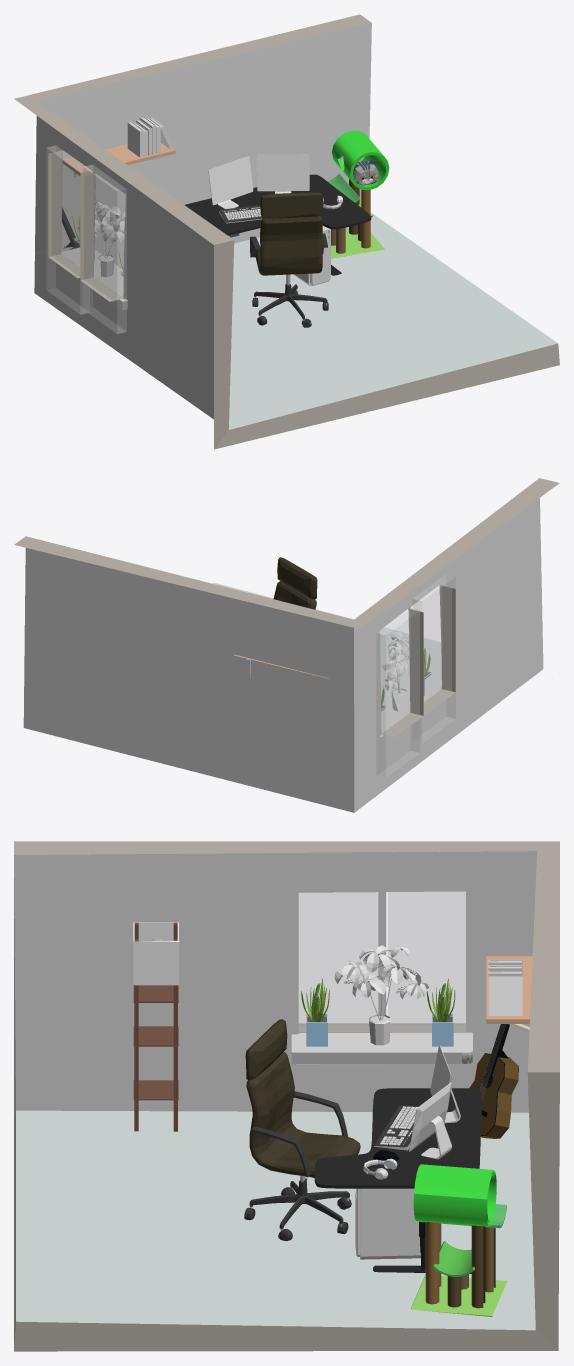
File: home.gltf
3 renders of one model, top to bottom at view 1: azimuth 30°, elevation 25°; view 2: azimuth 150°, elevation 25°; view 3: azimuth 270°, elevation 25°, orthographic. The views are drawn at different scales.
Visible parts, largest first — view 1: Plane, CHAIR, Cube.001, Cube, catTree0, desk, Books, CoffePlant_mehs, screan2, screan, SHELF, Cube.003 (+5 smaller); view 2: Plane, Cube, Cube.001, CHAIR, CoffePlant_mehs, Cube.003; view 3: Plane, catTree0, CHAIR, Cube, Cube.001, desk, LAMP, Cube.003, PC, CoffePlant_mehs, Guitar1, Books (+5 smaller).
Boxes of the visible parts, x1,y1,x2,y2 form: Plane: (14, 14, 559, 449); CHAIR: (250, 192, 328, 327); Cube.001: (83, 165, 126, 333); Cube: (46, 145, 89, 314); catTree0: (327, 130, 389, 258); desk: (185, 174, 371, 275); Books: (127, 117, 173, 157); CoffePlant_mehs: (78, 200, 125, 277); screan2: (259, 156, 307, 183); screan: (210, 158, 250, 196); SHELF: (62, 143, 175, 177); Cube.003: (61, 247, 127, 310); Plane: (14, 478, 559, 812); Cube: (376, 608, 419, 777); Cube.001: (412, 574, 455, 743); CHAIR: (273, 557, 317, 609); CoffePlant_mehs: (382, 632, 409, 710); Cube.003: (379, 683, 440, 744); Plane: (14, 841, 559, 1351); catTree0: (411, 1164, 507, 1316); CHAIR: (244, 1019, 360, 1240); Cube: (388, 892, 465, 1031); Cube.001: (299, 892, 377, 1031); desk: (314, 1088, 481, 1273); LAMP: (133, 922, 179, 1131); Cube.003: (291, 1032, 472, 1064); PC: (355, 1188, 420, 1259); CoffePlant_mehs: (334, 945, 428, 1045); Guitar1: (469, 1024, 518, 1138); Books: (488, 960, 522, 1015).
Bounding box in the file's own units: 8.38 × 4.73 × 8.38.
